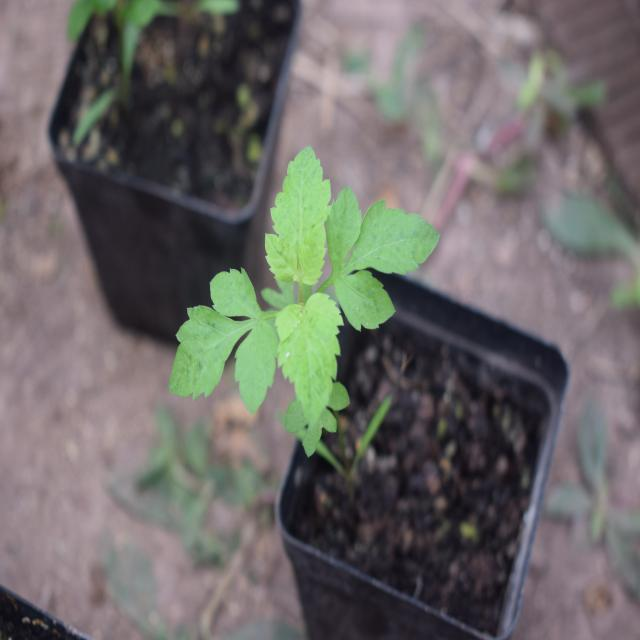Bidens pilosa: (148, 127, 434, 465)
